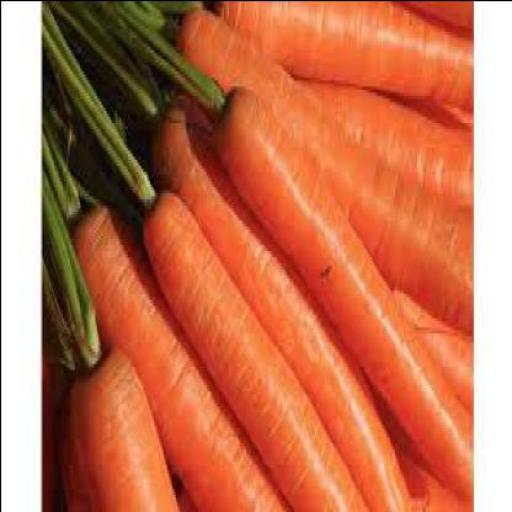biodegradable: (148, 82, 426, 508), (210, 82, 472, 508), (177, 1, 474, 326), (146, 186, 370, 509), (71, 195, 293, 509), (44, 2, 162, 204), (294, 76, 473, 204), (208, 1, 473, 80), (74, 338, 183, 508), (66, 1, 226, 116), (44, 1, 165, 122), (44, 155, 104, 366), (44, 88, 148, 207), (391, 281, 474, 421), (382, 418, 475, 509), (42, 100, 93, 222), (60, 372, 98, 510), (43, 341, 65, 509), (122, 2, 180, 40), (404, 1, 472, 33), (171, 469, 197, 509), (151, 2, 203, 12)
